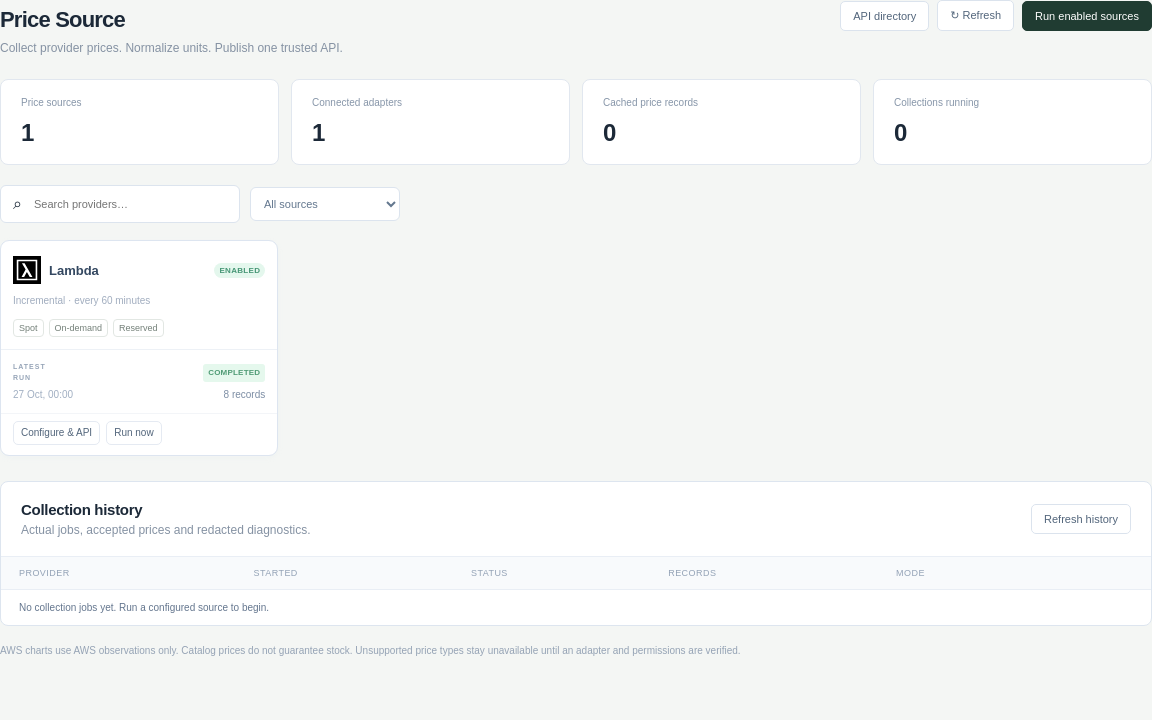
Test: PricingAdminPage › embeds the source grid, reads backend latest-run fields, and opens the official API directory
Expected: the heading "Price Source" is shown, x1=0 y1=7 x2=125 y2=32
Expected: the text "8 records" is shown, x1=224 y1=389 x2=265 y2=400
Click the button "API directory". click: (885, 16)
box: x1=840 y1=0 x2=929 y2=30
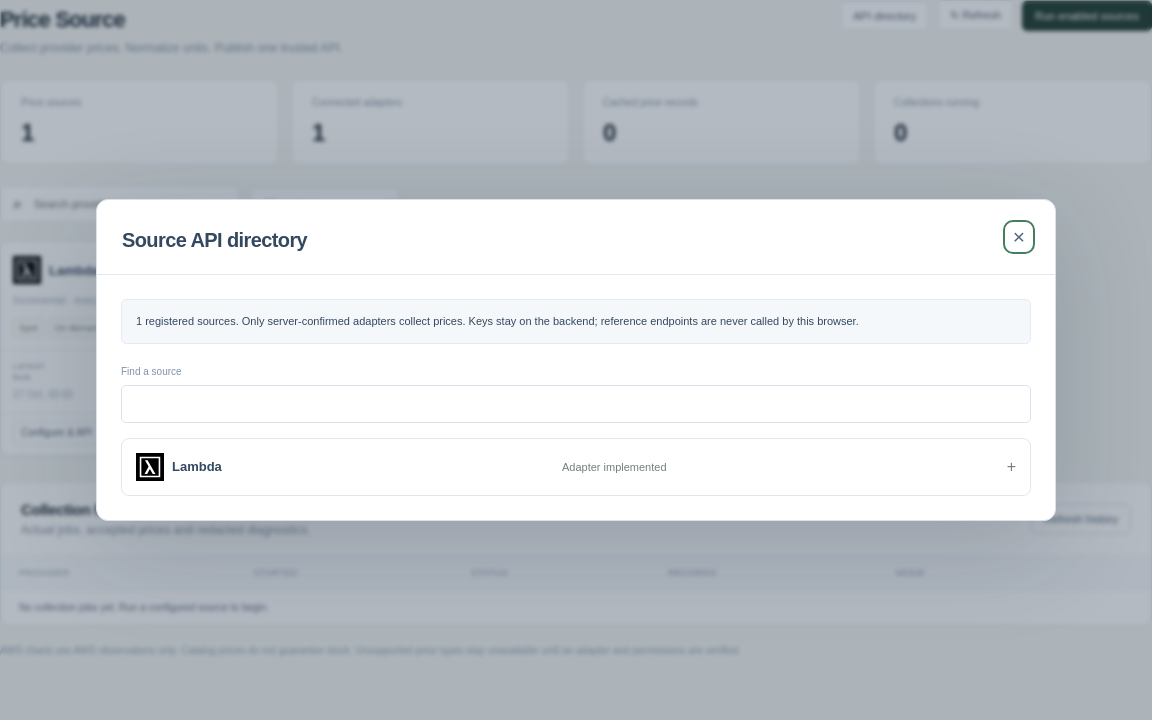
Expected: the heading "Source API directory" is shown, x1=122 y1=229 x2=307 y2=252
